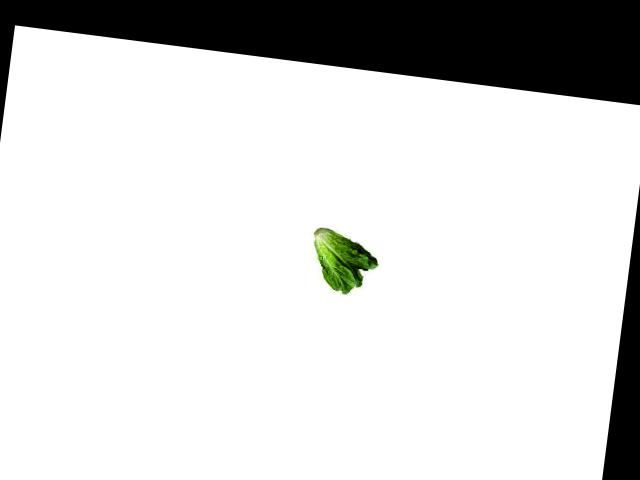lettuce: (303, 225, 381, 306)
